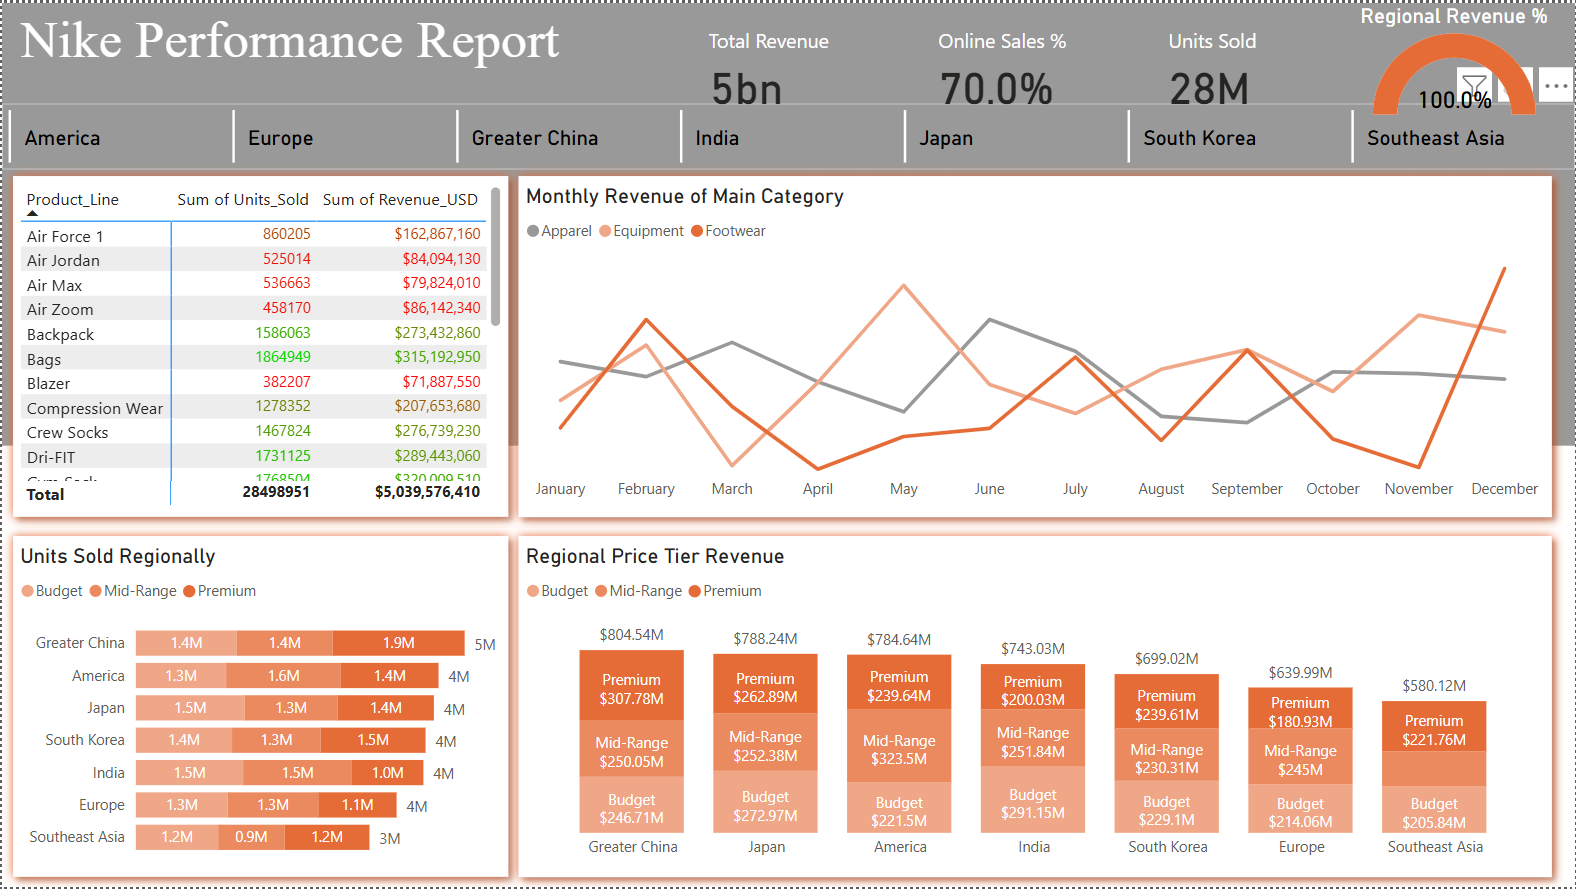

This screenshot's page, from the dashboard's own definition file:
{"tool":"powerbi","page":{"name":"Page 1","canvas":[1280,720],"ordinal":0},"visuals":[{"type":"shape","box":[411.1,424.4,858.9,295.6],"z":0},{"type":"shape","box":[0,0,1280,360],"z":1000},{"type":"shape","box":[0,131.7,420.8,295.2],"z":2000},{"type":"advancedSlicerVisual","fields":{"Values":["Nike_DimRegion.Region"]},"box":[0,81.4,1279.6,53.9],"z":3000},{"type":"cardVisual","fields":{"Data":["Sum(Nike_FactSales.Revenue_USD)","Avg(Nike_FactSales.Online_Sales_Percentage)","Sum(Nike_FactSales.Units_Sold)"]},"box":[557.8,0,565.6,108.9],"z":4000},{"type":"shape","box":[411.1,132.2,858.9,295.6],"z":5000},{"type":"lineChart","title":"Monthly Revenue of Main Category","fields":{"Category":["Nike_DimMonth.Month"],"Y":["Sum(Nike_FactSales.Revenue_USD)"],"Series":["Nike_DimMainCategory.Main_Category"]},"box":[421.1,146.7,836.7,266.7],"z":6000},{"type":"columnChart","title":"Regional Price Tier Revenue","fields":{"Y":["Sum(Nike_FactSales.Revenue_USD)"],"Series":["Nike_DimPriceTier.Price_Tier"],"Category":["Nike_DimRegion.Region"]},"box":[421.1,438.9,836.7,265.6],"z":7000},{"type":"pivotTable","fields":{"Rows":["Nike_DimProductLine.Product_Line"],"Values":["Sum(Nike_FactSales.Units_Sold)","Sum(Nike_FactSales.Revenue_USD)"]},"box":[9.8,143.9,401.3,269.6],"z":8000},{"type":"textbox","box":[10,0,528.9,65.6],"z":9000},{"type":"gauge","title":"Regional Revenue %","fields":{"Y":["Nike_FactSales.Selected Region % of Total"],"MaxValue":["Nike_FactSales.MaxValue"]},"box":[1091.7,0,178.4,95.8],"z":10000},{"type":"shape","box":[0,424.5,420.8,295.2],"z":11000},{"type":"barChart","title":"Units Sold Regionally","fields":{"Category":["Nike_DimRegion.Region"],"Y":["Sum(Nike_FactSales.Units_Sold)"],"Series":["Nike_DimPriceTier.Price_Tier"]},"box":[9.8,439.1,401.3,265.9],"z":12000}]}

Visuals, with their boxes in screenshot pixels (x1, y1, x2, y2), scaled from the page's 1280x720 canvas onto the 1576x889 screenshot:
shape: locate(506, 524, 1564, 888)
shape: locate(0, 0, 1575, 444)
shape: locate(0, 163, 518, 527)
advancedSlicerVisual - Nike_DimRegion.Region: locate(0, 101, 1575, 167)
cardVisual - Sum(Nike_FactSales.Revenue_USD) x Avg(Nike_FactSales.Online_Sales_Percentage): locate(687, 0, 1383, 134)
shape: locate(506, 163, 1564, 528)
"Monthly Revenue of Main Category" lineChart: locate(518, 181, 1549, 510)
"Regional Price Tier Revenue" columnChart: locate(518, 542, 1549, 870)
pivotTable - Nike_DimProductLine.Product_Line x Sum(Nike_FactSales.Units_Sold): locate(12, 178, 506, 511)
textbox: locate(12, 0, 664, 81)
"Regional Revenue %" gauge: locate(1344, 0, 1564, 118)
shape: locate(0, 524, 518, 888)
"Units Sold Regionally" barChart: locate(12, 542, 506, 870)
